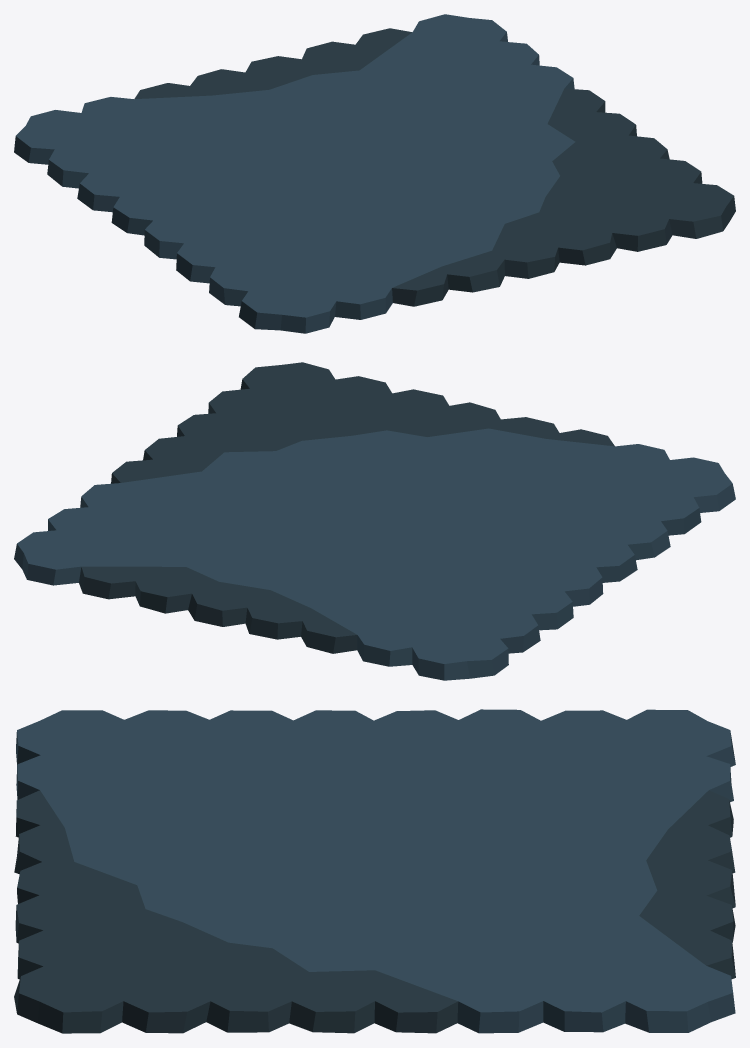
The model's file is SM_Prop_Gym_Mat_02.glb.
3 renders of one model, top to bottom at view 1: azimuth 30°, elevation 25°; view 2: azimuth 150°, elevation 25°; view 3: azimuth 270°, elevation 25°, orthographic. The views are drawn at different scales.
Visible parts, largest first — view 1: SM_Prop_Gym_Mat_02; view 2: SM_Prop_Gym_Mat_02; view 3: SM_Prop_Gym_Mat_02.
Part boxes in pixels (<box>): SM_Prop_Gym_Mat_02: <box>14,14,735,333</box>; SM_Prop_Gym_Mat_02: <box>14,362,735,680</box>; SM_Prop_Gym_Mat_02: <box>14,709,735,1033</box>.
Bounding box in the file's own units: 1.08 × 0.0333 × 1.08.
1 material, 1 textured.
